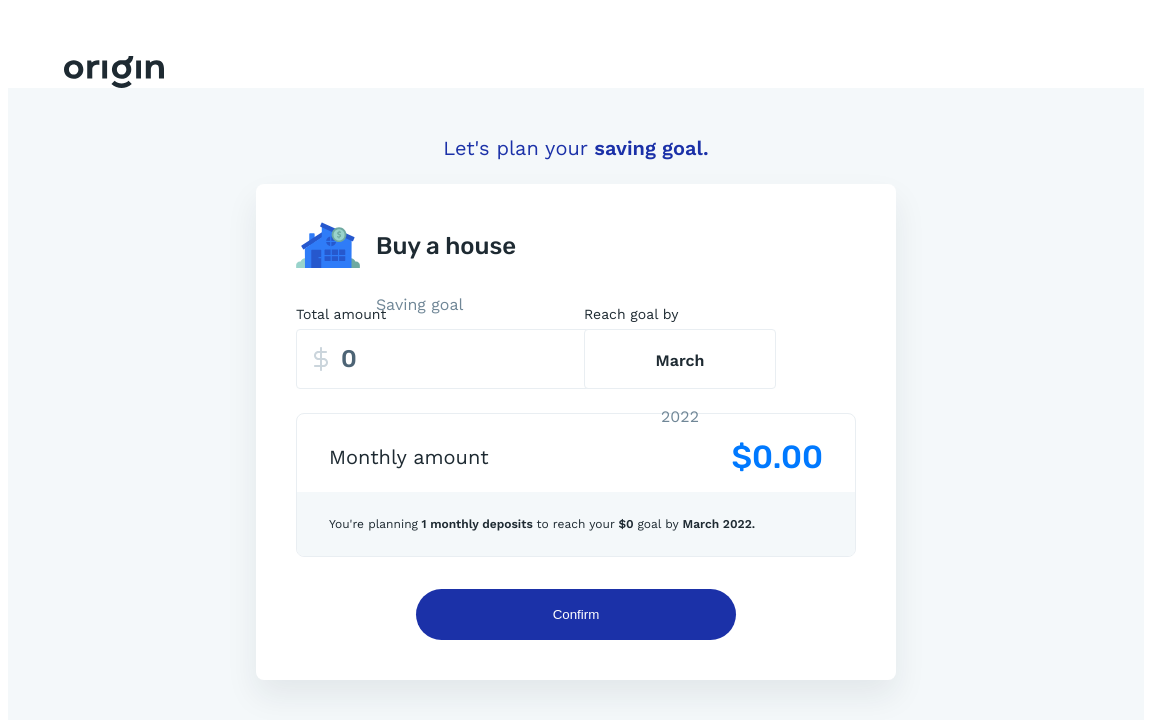
App › DOM › should render formatted value on input
The image size is (1152, 720).
Replace the text in the field named "amount" with "10000" at (456, 359), box [296,329,616,389]
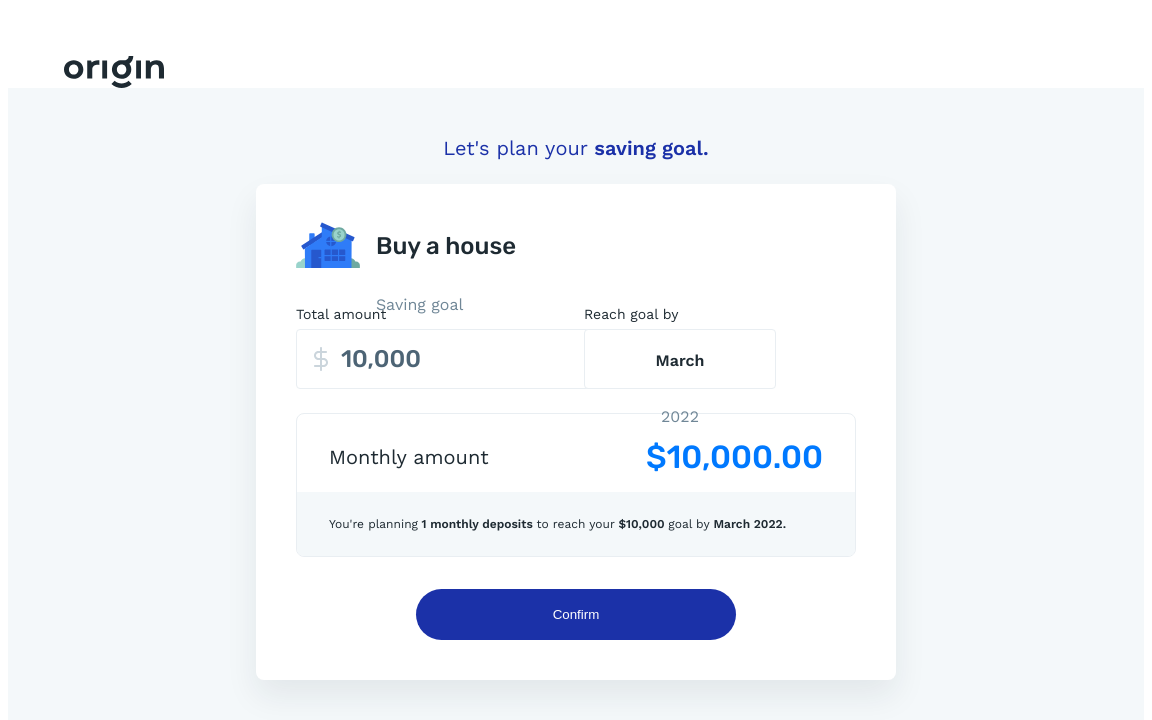
expect the field named "amount" holds "10,000": met, box [296,329,616,389]
expect the text with test id "monthlyAmount" reads "$10,000.00": met, box [646,438,823,476]
